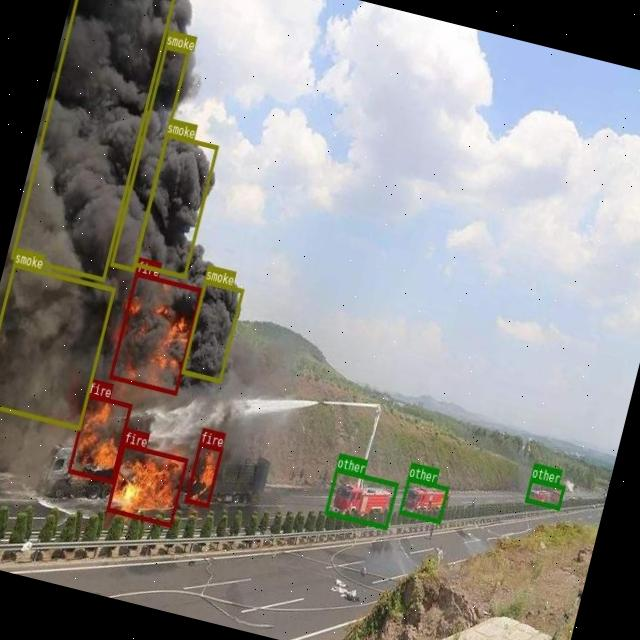fire: (108, 271, 202, 394), (106, 442, 188, 527), (67, 392, 131, 482), (185, 442, 222, 506)
smoke: (10, 0, 184, 281), (0, 262, 114, 429), (110, 44, 188, 270), (132, 131, 218, 278), (180, 278, 243, 382)
